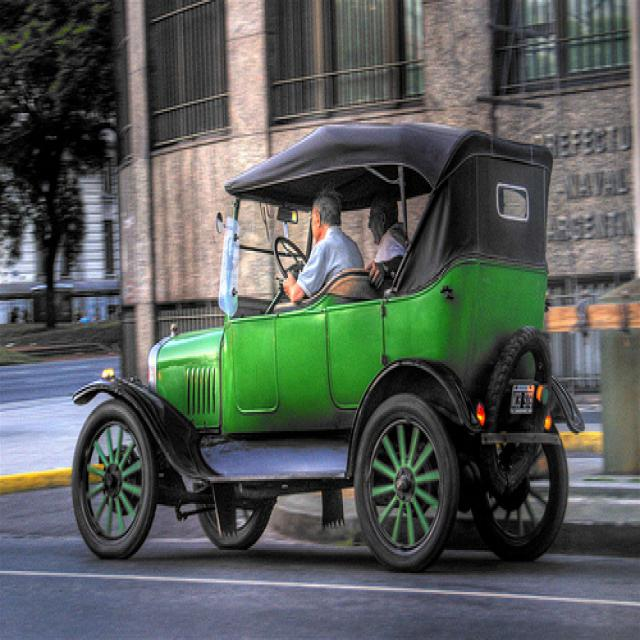Car: (68, 111, 578, 581)
